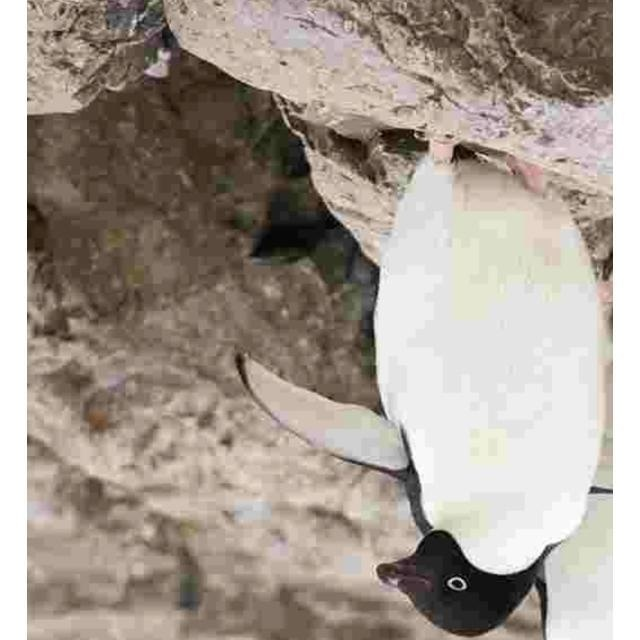penguin: (237, 134, 610, 638)
